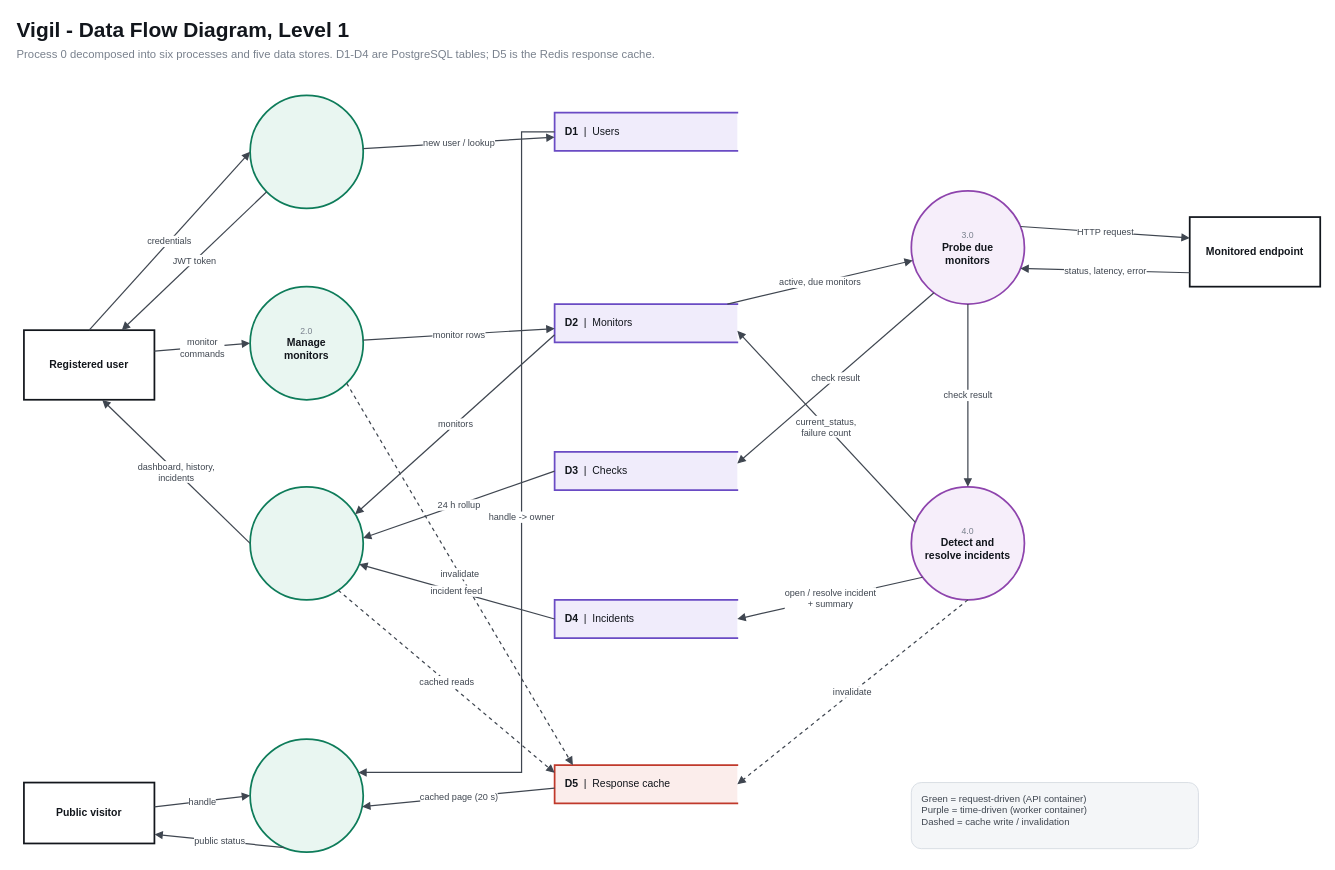
The diagram is 1335 pixels wide and 870 high, and some of its shapes have lost their labels. Here are the shapes that lost their labels. From the top down, the box of each, then its label:
(249, 94, 364, 209): 1.0 Authenticate user
(249, 485, 364, 600): 5.0 Report status and incidents
(249, 738, 364, 853): 6.0 Publish status page
